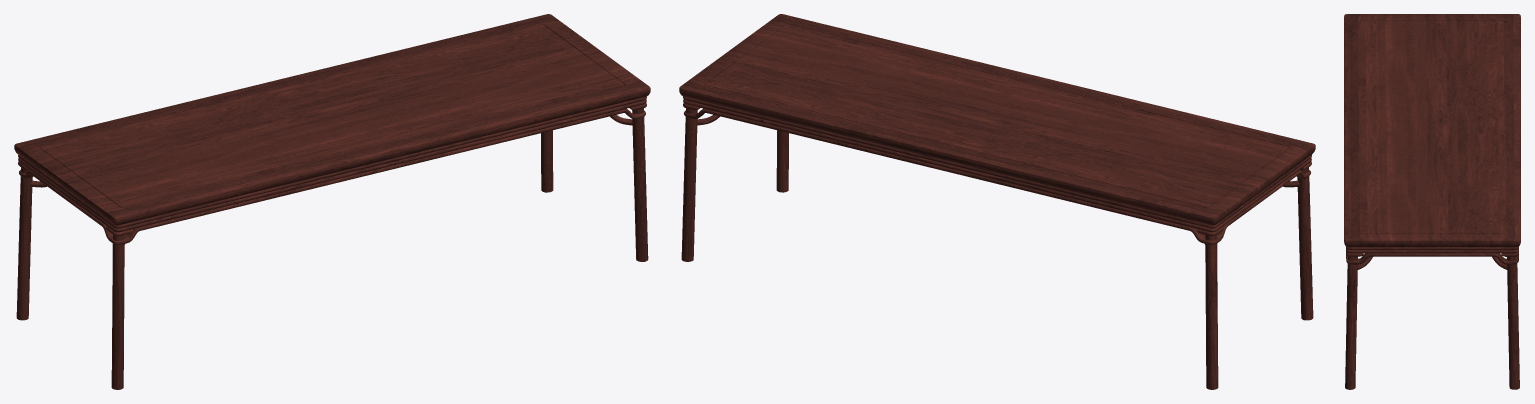
3 views of the same model, side by side, from view 1: azimuth 30°, elevation 25°; view 2: azimuth 150°, elevation 25°; view 3: azimuth 270°, elevation 25° (orthographic). The views are drawn at different scales.
Visible parts, largest first — view 1: SY-桌子; view 2: SY-桌子; view 3: SY-桌子.
Part boxes in pixels (x1,y1,x2,y2): SY-桌子: [14, 14, 650, 389]; SY-桌子: [679, 14, 1315, 389]; SY-桌子: [1344, 14, 1520, 389].
Size of the model in its own units: 2.36 by 0.7773 by 0.7267.
